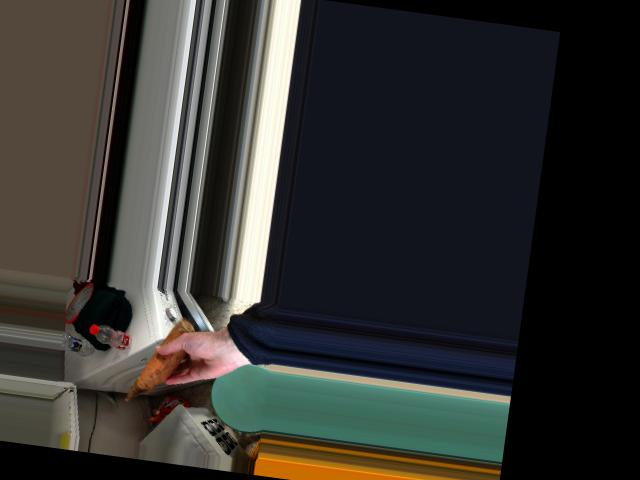sweet_potato: (134, 334, 187, 387)
